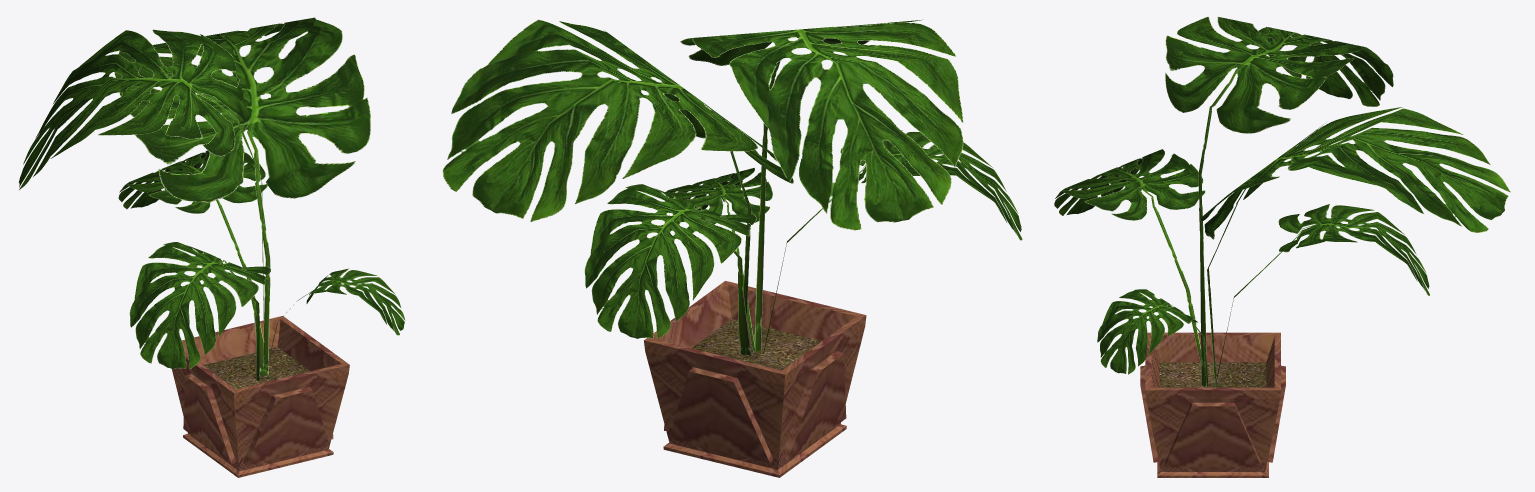
The model's file is plant-01-art.glb.
3 renders of one model, left to right at view 1: azimuth 30°, elevation 25°; view 2: azimuth 150°, elevation 25°; view 3: azimuth 270°, elevation 25°, orthographic. The views are drawn at different scales.
Visible parts, largest first — view 1: Plant_01_Art; view 2: Plant_01_Art; view 3: Plant_01_Art.
Part boxes in pixels (x1,y1,x2,y2): Plant_01_Art: [18, 17, 405, 477]; Plant_01_Art: [442, 19, 1022, 477]; Plant_01_Art: [1054, 16, 1510, 477].
Bounding box in the file's own units: 3.12 × 3.08 × 3.45.
3 materials, 3 textured.
